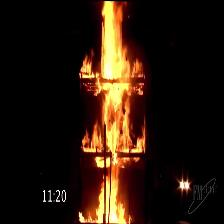fire: (81, 0, 150, 216)
